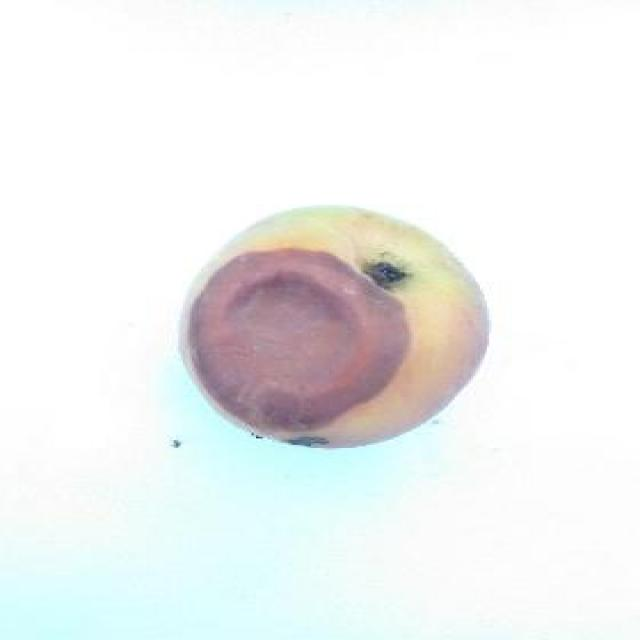Rotten: (178, 202, 490, 458)
